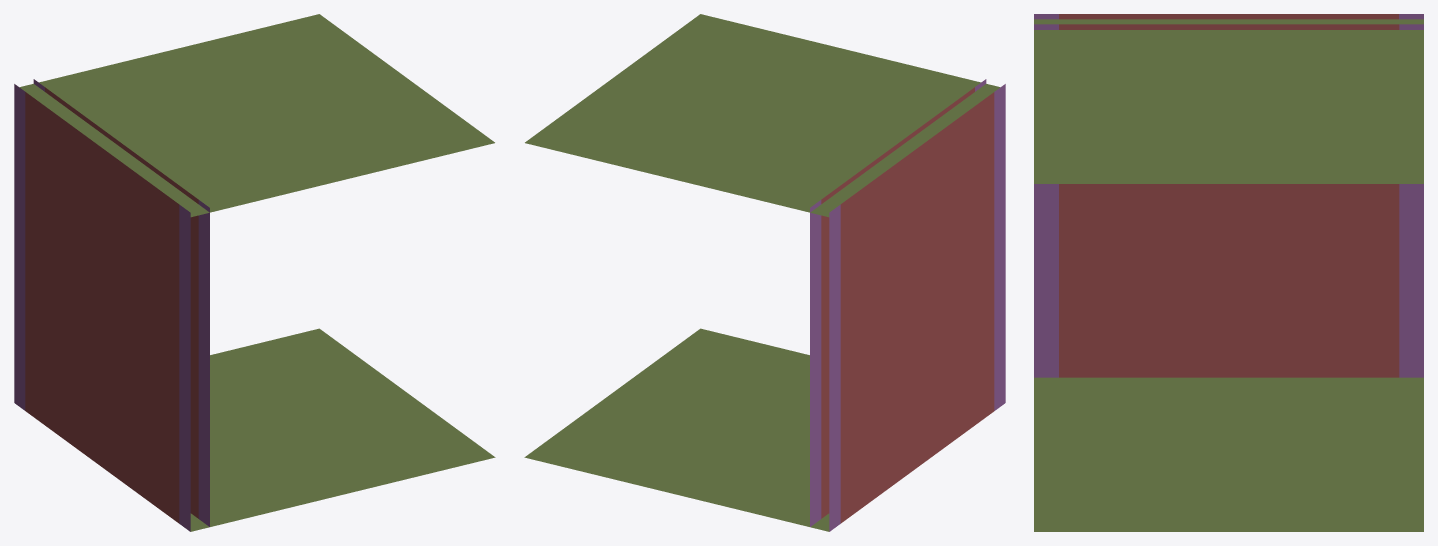
Rendered from wall.fbx.
The picture shows the model from 3 angles, left to right: view 1: azimuth 30°, elevation 25°; view 2: azimuth 150°, elevation 25°; view 3: azimuth 270°, elevation 25°; orthographic projection. The views are drawn at different scales.
Parts seen in each view (by area): view 1: bulding_wall1, polySurface8, polySurface7, building_pillar10, building_pillar9; view 2: bulding_wall1, polySurface8, polySurface7, building_pillar9, building_pillar10; view 3: bulding_wall1, polySurface8, polySurface7, building_pillar9, building_pillar10.
Boxes of the visible parts, <box> form: bulding_wall1: <box>25,87,198,523</box>; polySurface8: <box>19,14,494,217</box>; polySurface7: <box>190,328,495,531</box>; building_pillar10: <box>179,200,209,531</box>; building_pillar9: <box>14,79,44,410</box>; bulding_wall1: <box>821,87,994,523</box>; polySurface8: <box>525,14,1000,217</box>; polySurface7: <box>524,328,829,531</box>; building_pillar9: <box>810,200,840,531</box>; building_pillar10: <box>975,79,1005,410</box>; bulding_wall1: <box>1059,14,1399,377</box>; polySurface8: <box>1034,19,1423,183</box>; polySurface7: <box>1034,377,1423,531</box>; building_pillar9: <box>1399,14,1423,377</box>; building_pillar10: <box>1034,14,1058,377</box>.
Size of the model in its own units: 1 by 1 by 1.
